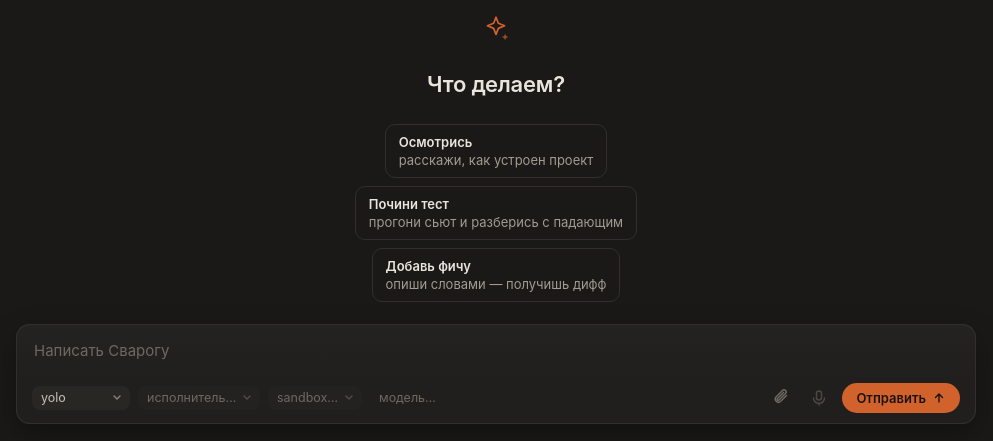
Test: слэш-команды › /help показывает список команд из GET /commands
Type "/help" into the dropdown labelled "Написать Сварогу". click: {"x": 496, "y": 351}
box: [32, 338, 960, 364]
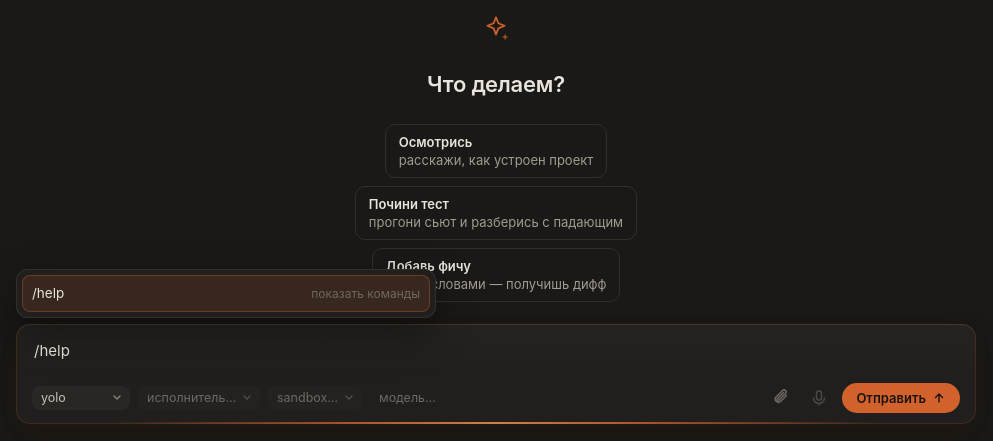
Press Enter Enter
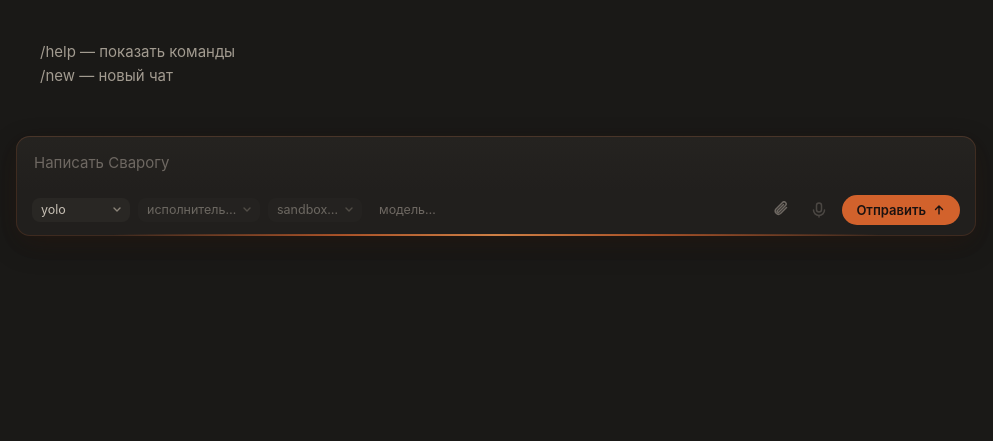
Expected: the text "/help — показать команды /new — новый чат" is shown, [40, 42, 235, 85]
